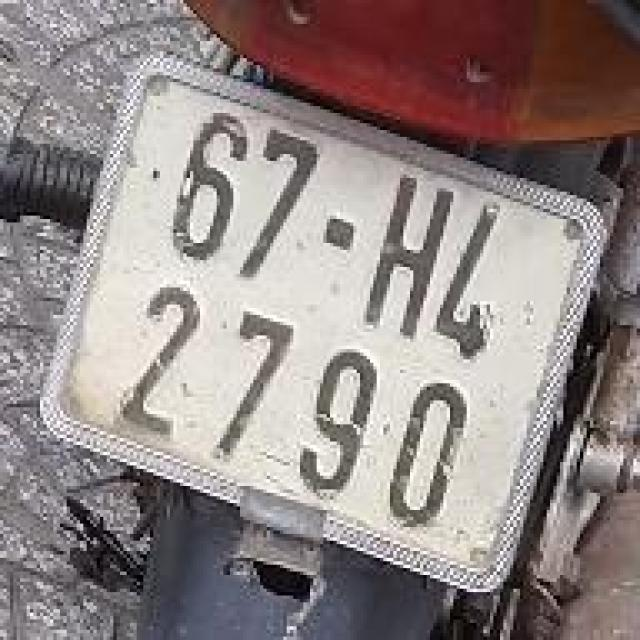0: (374, 360, 486, 548)
2: (104, 277, 221, 443)
4: (420, 187, 541, 375)
6: (158, 97, 263, 267)
7: (193, 294, 313, 476), (220, 115, 334, 294)
9: (285, 331, 397, 513)
H: (346, 160, 474, 353)
